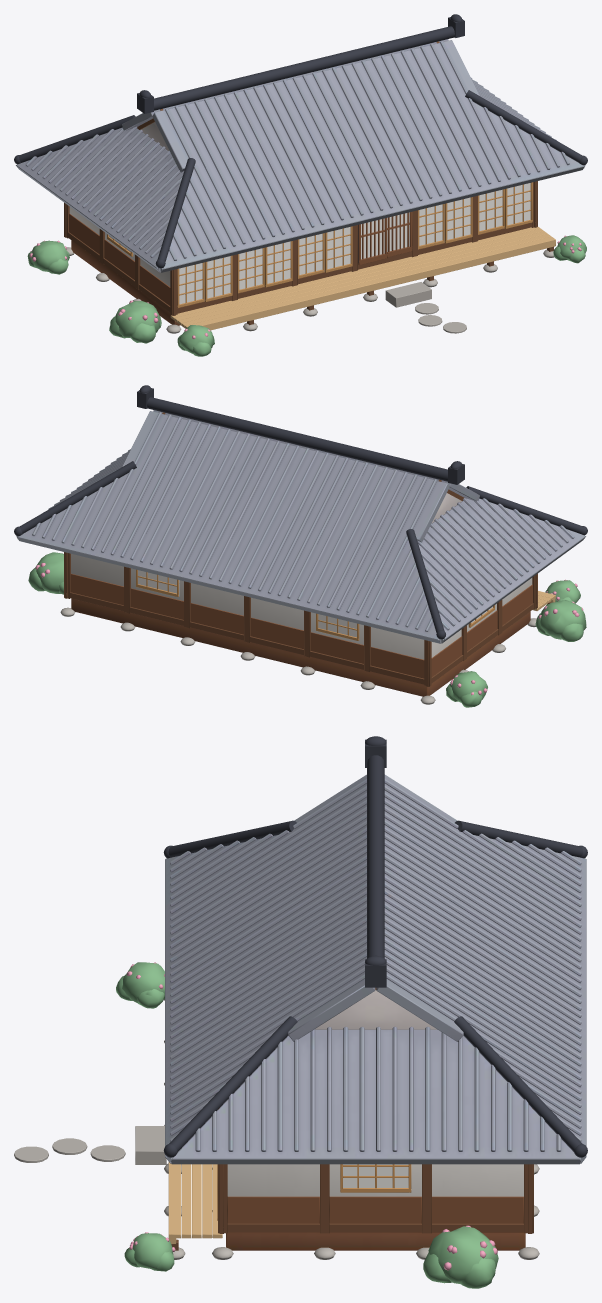
The model's file is japanese-house.glb.
The picture shows the model from 3 angles, top to bottom: view 1: azimuth 30°, elevation 25°; view 2: azimuth 150°, elevation 25°; view 3: azimuth 270°, elevation 25°; orthographic projection. The views are drawn at different scales.
Parts seen in each view (by area): view 1: japanese-house_body, japanese-house_details, japanese-house_ridges, japanese-house_plants, japanese-house_sliding_door; view 2: japanese-house_body, japanese-house_details, japanese-house_ridges, japanese-house_plants; view 3: japanese-house_body, japanese-house_details, japanese-house_ridges, japanese-house_plants.
Part boxes in pixels (left/top/right/bottom): japanese-house_body: left=16, top=39, right=584, bottom=325; japanese-house_details: left=64, top=181, right=555, bottom=333; japanese-house_ridges: left=14, top=14, right=587, bottom=271; japanese-house_plants: left=27, top=235, right=586, bottom=356; japanese-house_sliding_door: left=358, top=218, right=387, bottom=264; japanese-house_body: left=17, top=410, right=585, bottom=696; japanese-house_details: left=60, top=552, right=555, bottom=704; japanese-house_ridges: left=14, top=385, right=587, bottom=642; japanese-house_plants: left=28, top=552, right=586, bottom=707; japanese-house_body: left=165, top=774, right=586, bottom=1250; japanese-house_details: left=14, top=999, right=539, bottom=1259; japanese-house_ridges: left=163, top=736, right=587, bottom=1162; japanese-house_plants: left=116, top=962, right=498, bottom=1288.
Size of the model in its own units: 14.36 by 5.74 by 10.5.
12 materials, 1 textured.
